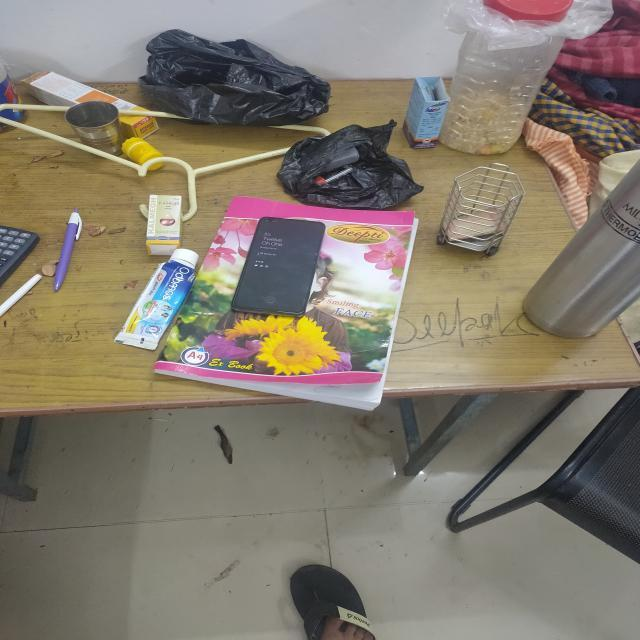Phone: (228, 213, 332, 322)
